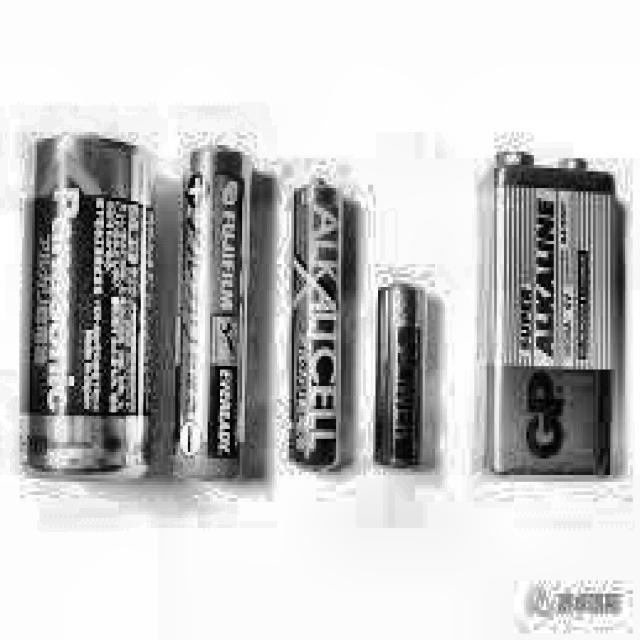Battery: (482, 150, 628, 480), (30, 139, 146, 485), (178, 152, 249, 485), (293, 178, 342, 465), (378, 284, 425, 472)
